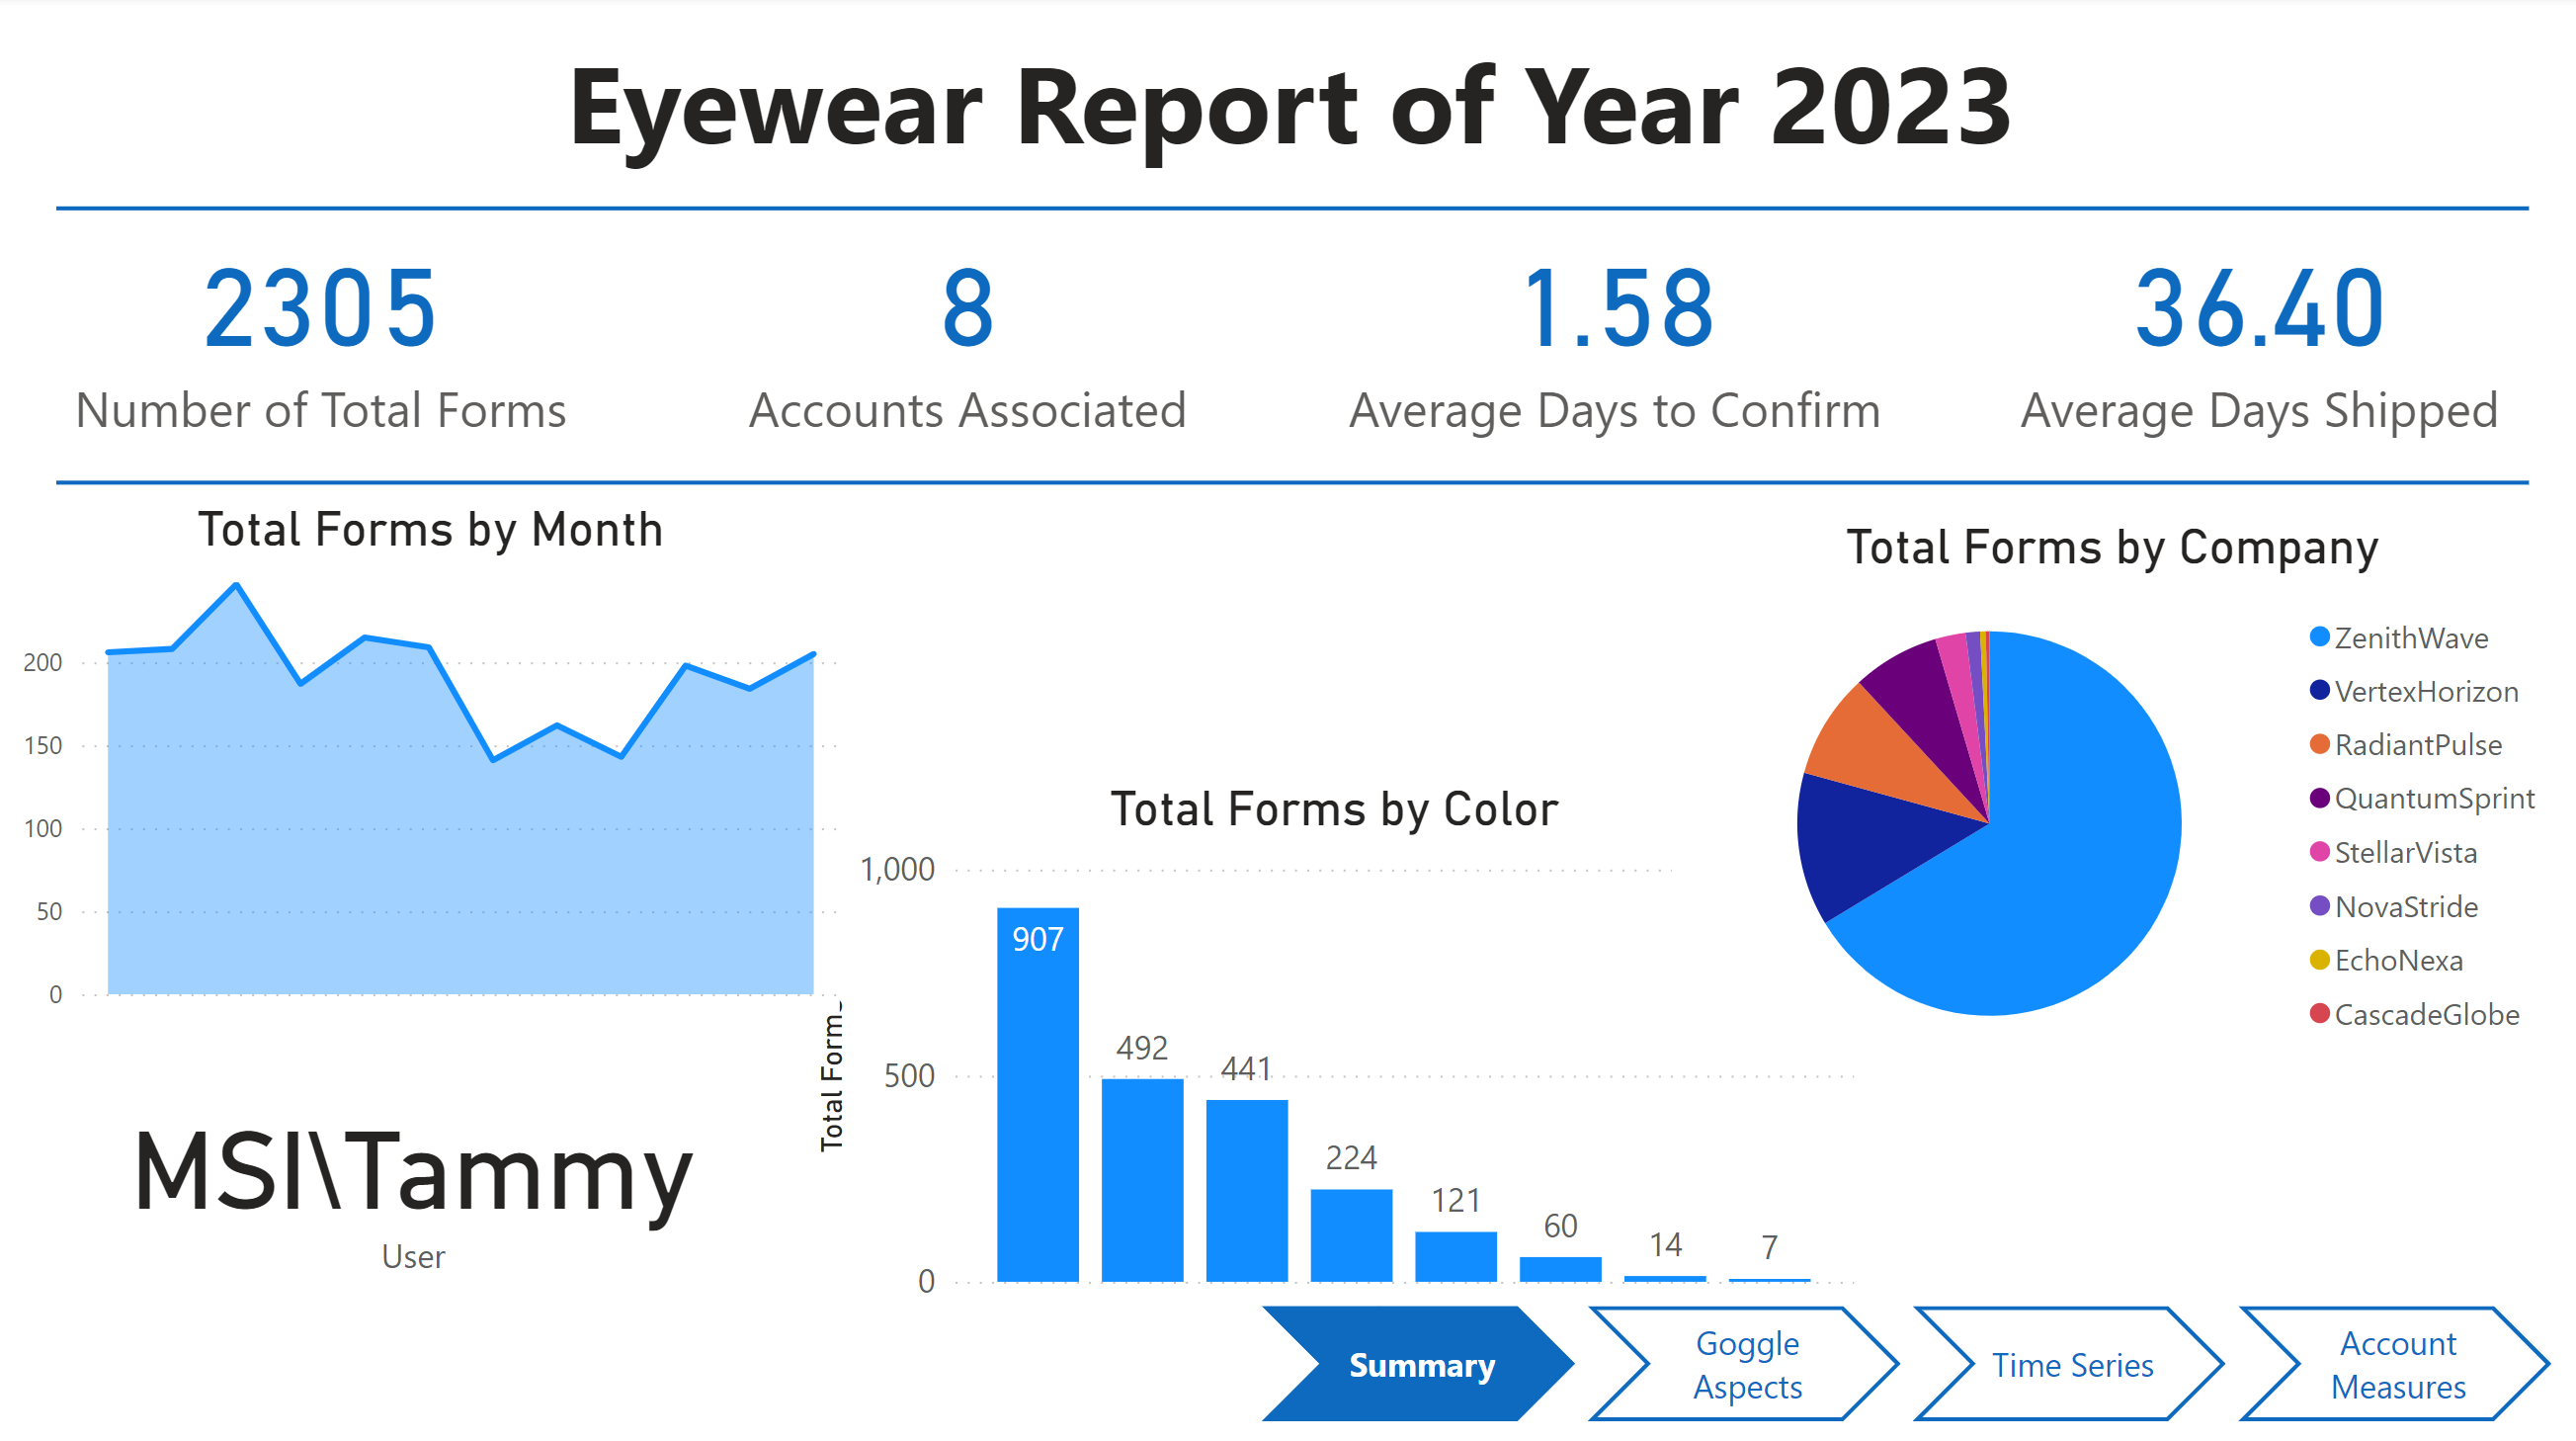

This screenshot's page, from the dashboard's own definition file:
{"tool":"powerbi","page":{"name":"Summary","canvas":[1280,720],"ordinal":0},"visuals":[{"type":"columnChart","title":"Total Forms by Color","fields":{"Y":["Eyewear 1.Adjusted Form #"],"Category":["DimGoggle.COLORS"]},"box":[399.3,388.3,524.2,278.6],"z":0},{"type":"textbox","box":[234.2,11,811.7,86.8],"z":1000},{"type":"card","fields":{"Values":["file (3).Adjusted Form #"]},"box":[0,87.1,320,154.3],"z":2000},{"type":"card","fields":{"Values":["Eyewear 1.ACCT #"]},"box":[320,87.1,320,154.3],"z":3000},{"type":"card","fields":{"Values":["Status & Date.DAYS SHIPPED"]},"box":[960,87.1,320,154.3],"z":4000},{"type":"card","fields":{"Values":["Status & Date.DAYS TO CONFIRM"]},"box":[640,87.1,320,154.3],"z":5000},{"type":"shape","box":[28.8,202.7,1223.7,77.6],"z":6000},{"type":"shape","box":[28.8,67.6,1223.7,77.6],"z":7000},{"type":"pieChart","title":"Total Forms by Company","fields":{"Y":["Eyewear 1.Adjusted Form #"],"Category":["company.Company Name"],"Series":["company.Company Name"]},"box":[828.8,254.3,436.4,275],"z":8000},{"type":"areaChart","title":"Total Forms by Month","fields":{"Y":["Eyewear 1.Adjusted Form #"],"Category":["Status & Date.DATE SENT TO POG.Variation.Date Hierarchy.Month"]},"box":[12.2,250.6,404.6,253],"z":9000},{"type":"pageNavigator","box":[625.9,649.1,639.3,57.5],"z":10000},{"type":"card","fields":{"Values":["FactEyewear.User"]},"box":[12.2,503.6,387.1,163.3],"z":10001}]}

Visuals, with their boxes in screenshot pixels (x1, y1, x2, y2), scaled from the page's 1280x720 canvas onto the 2576x1441 screenshot:
"Total Forms by Color" columnChart: [x1=803, y1=777, x2=1859, y2=1334]
textbox: [x1=471, y1=22, x2=2105, y2=196]
card - file (3).Adjusted Form #: [x1=0, y1=174, x2=644, y2=483]
card - Eyewear 1.ACCT #: [x1=644, y1=174, x2=1288, y2=483]
card - Status & Date.DAYS SHIPPED: [x1=1932, y1=174, x2=2575, y2=483]
card - Status & Date.DAYS TO CONFIRM: [x1=1288, y1=174, x2=1932, y2=483]
shape: [x1=58, y1=405, x2=2521, y2=561]
shape: [x1=58, y1=135, x2=2521, y2=291]
"Total Forms by Company" pieChart: [x1=1668, y1=509, x2=2546, y2=1060]
"Total Forms by Month" areaChart: [x1=25, y1=501, x2=839, y2=1008]
pageNavigator: [x1=1260, y1=1299, x2=2546, y2=1414]
card - FactEyewear.User: [x1=25, y1=1008, x2=803, y2=1334]
